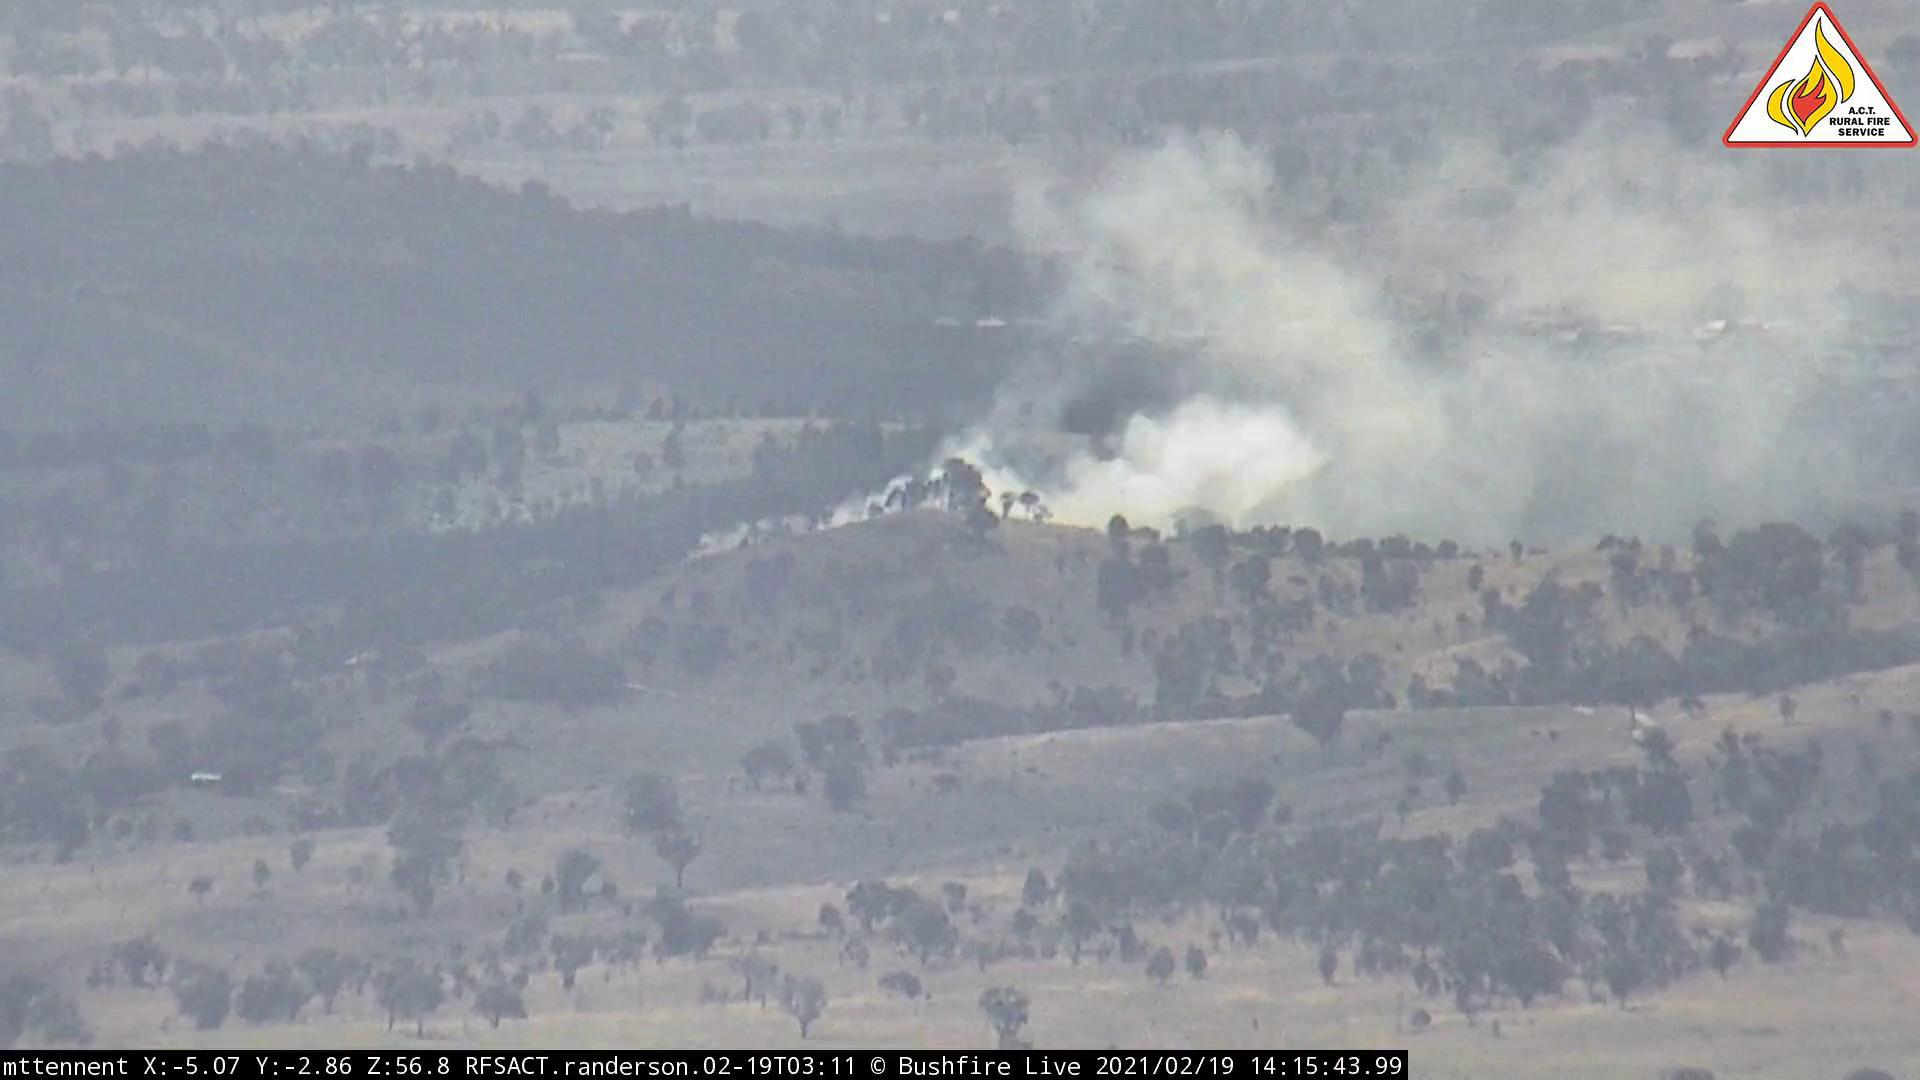instance_salient_object: (829, 113, 1710, 553)
